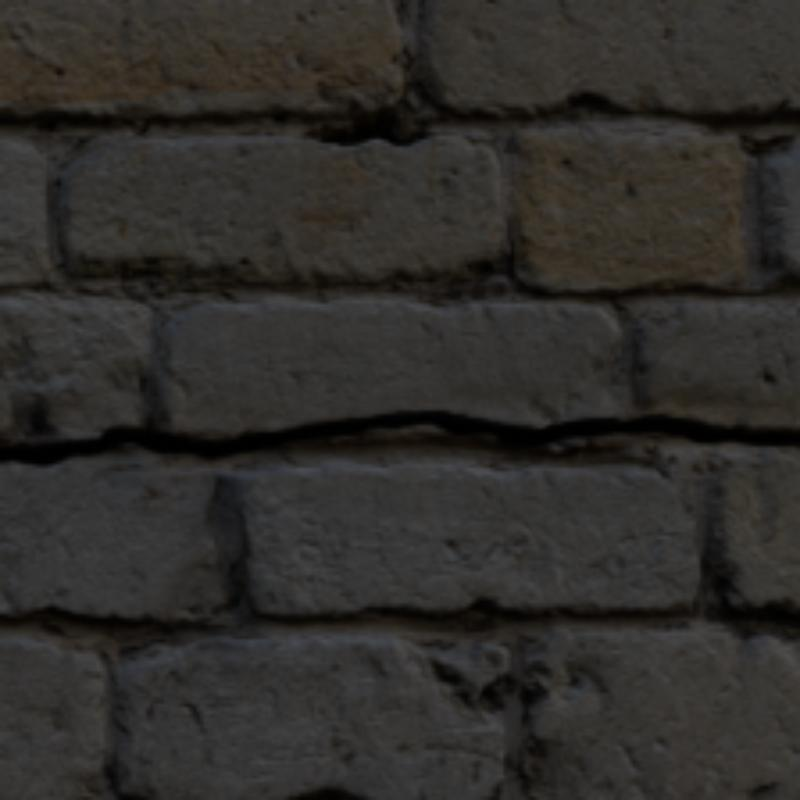pothole: (0, 411, 796, 461)
